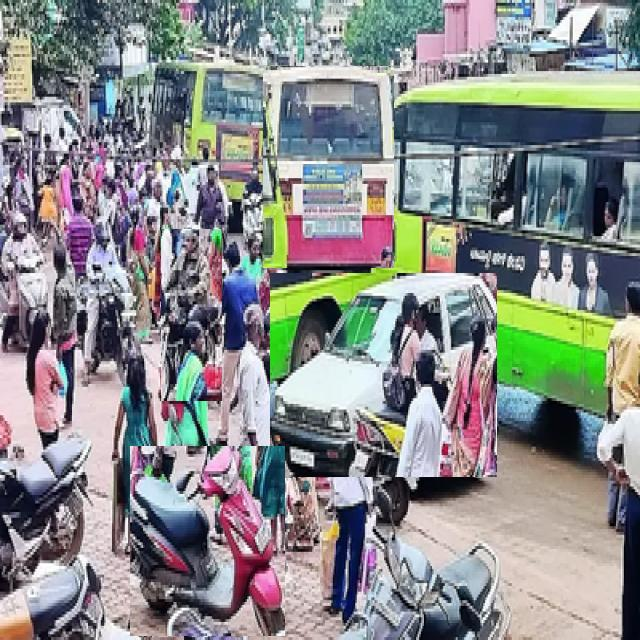bus: (371, 73, 640, 414), (264, 66, 394, 268), (153, 62, 269, 206)
car: (271, 273, 497, 477)
motorcycle: (130, 446, 285, 636), (341, 531, 509, 639), (0, 436, 89, 583), (0, 556, 138, 640), (161, 229, 222, 401), (81, 220, 138, 383), (1, 213, 48, 350)
